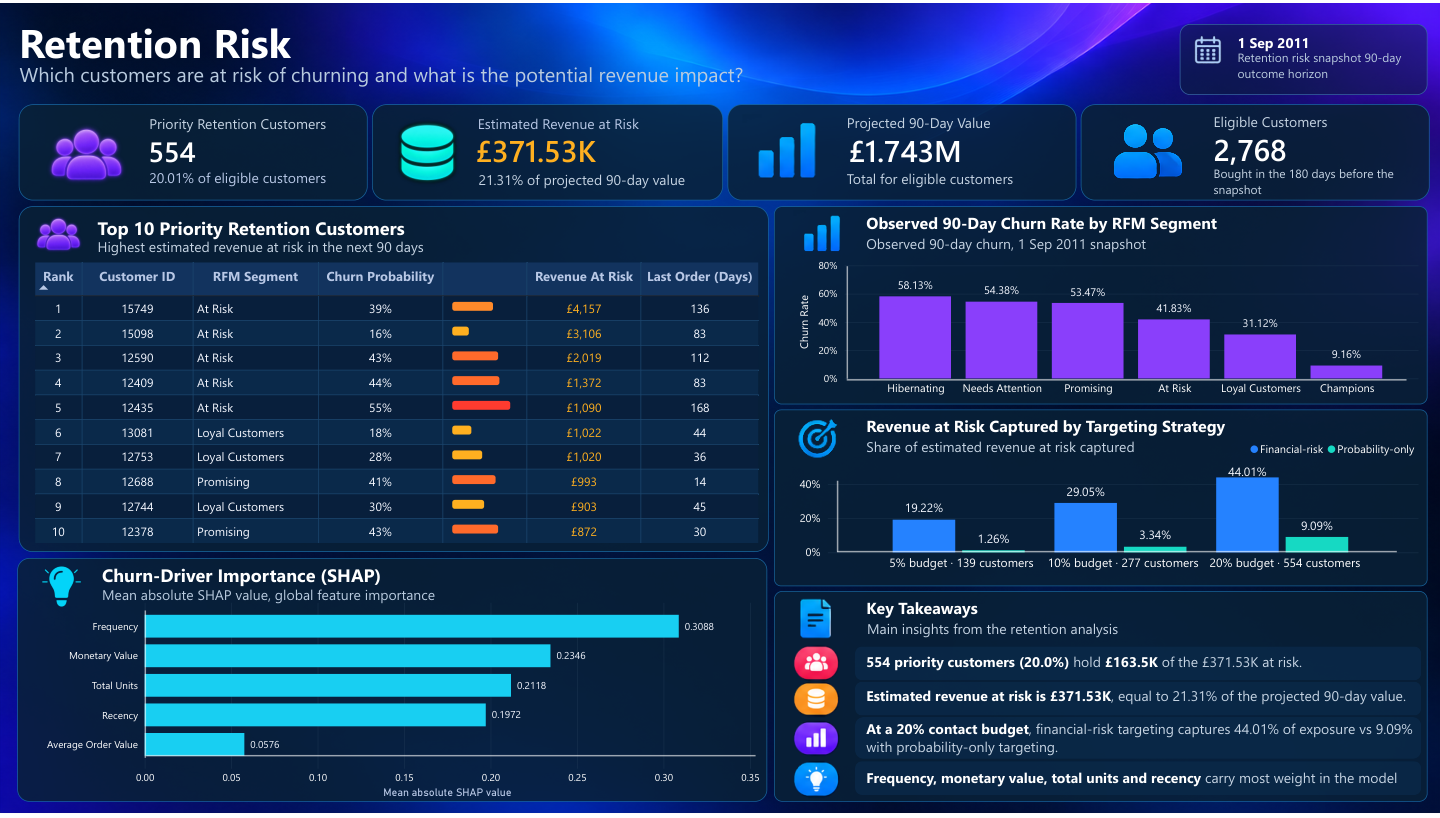

What the dashboard file says about the page in this screenshot:
{"tool":"powerbi","page":{"name":"Retention Risk","canvas":[1920,1080],"ordinal":1},"visuals":[{"type":"textbox","box":[25,14.3,628.6,76.8],"z":0},{"type":"shape","box":[496.4,133.9,468,128.3],"z":0,"group":"g1"},{"type":"shape","box":[969.6,133.9,465.2,128.3],"z":0,"group":"g2"},{"type":"shape","box":[1441.1,133.9,465.2,128.3],"z":0,"group":"g3"},{"type":"shape","box":[1032.1,269.6,871.4,264.3],"z":0,"group":"g4"},{"type":"shape","box":[1031.9,541.1,871.4,235.7],"z":0,"group":"g5"},{"type":"cardVisual","fields":{"Data":["Sum(retention_kpis.eligible_customers)"]},"box":[1602,152,187.5,80.4],"z":1000,"group":"g3"},{"type":"cardVisual","fields":{"Data":["Sum(retention_kpis.projected_90d_value)"]},"box":[1114.4,154,187.5,80.4],"z":1000,"group":"g2"},{"type":"cardVisual","fields":{"Data":["Sum(retention_kpis.estimated_revenue_at_risk)"]},"box":[618.8,158,195.7,73.8],"z":1000,"group":"g1"},{"type":"textbox","box":[1155.3,277,571.4,39.3],"z":1000,"group":"g4"},{"type":"textbox","box":[1155.4,548.3,571.4,39.3],"z":1000,"group":"g5"},{"type":"shape","box":[1032.1,783,871.4,281],"z":1000},{"type":"textbox","box":[1617.7,144,275,33.9],"z":2000,"group":"g3"},{"type":"textbox","box":[1128.7,146.2,275,33.9],"z":2000,"group":"g2"},{"type":"textbox","box":[637,146.5,275,33.9],"z":2000,"group":"g1"},{"type":"shape","box":[25,270,1000,461],"z":2000},{"type":"textbox","box":[1155.3,307,571.4,30.4],"z":2000,"group":"g4"},{"type":"textbox","box":[1155.4,578.3,571.4,30.4],"z":2000,"group":"g5"},{"type":"image","box":[977.4,134,121.4,112.5],"z":3000,"group":"g2"},{"type":"image","box":[499.2,134.7,141.1,130.4],"z":3000,"group":"g1"},{"type":"image","box":[1471.3,146,117.9,101.8],"z":3000,"group":"g3"},{"type":"image","box":[1037.5,268,105.4,69.6],"z":3000,"group":"g4"},{"type":"image","box":[1037.5,545,105.4,69.6],"z":3000,"group":"g5"},{"type":"textbox","box":[1155.1,790.1,571.4,37.5],"z":3000},{"type":"textbox","box":[25.8,74.8,982.7,46.4],"z":4000},{"type":"clusteredColumnChart","fields":{"Category":["retention_segment_summary.rfm_segment"],"Y":["Sum(retention_segment_summary.Churn Rate)"]},"box":[1050,325,857.1,219.6],"z":4000,"group":"g4"},{"type":"clusteredColumnChart","fields":{"Category":["contact_budget_comparison.Budget Label"],"Y":["Sum(contact_budget_comparison.Financial Exposure %)","Sum(contact_budget_comparison.Probability Exposure %)"]},"box":[1049.8,564.3,857.1,214.3],"z":4000,"group":"g5"},{"type":"textbox","box":[1156.3,819.5,571.4,36.3],"z":5000},{"type":"textbox","box":[130,282,516.6,35.3],"z":6000},{"type":"image","box":[1040,783.5,94.6,73.2],"z":7000},{"type":"textbox","box":[130,311,593.6,38.5],"z":8000},{"type":"shape","box":[1573.2,26.8,330.4,94.6],"z":10000},{"type":"tableEx","fields":{"Values":["retention_customer_priority.priority_rank","retention_customer_priority.customer_id","retention_customer_priority.rfm_segment","retention_customer_priority.calibrated_churn_probability","retention_customer_priority.Probability Bar","retention_customer_priority.revenue_at_risk","retention_customer_priority.recency_days"]},"box":[30,331,998.2,407.1],"z":11000},{"type":"textbox","box":[1650,39.3,224.6,41.7],"z":12000},{"type":"textbox","box":[1650,60.7,237.5,60.7],"z":13000},{"type":"image","box":[1546.4,21.4,128.6,78.6],"z":14000},{"type":"shape","box":[25,133.9,465.2,128.3],"z":15000},{"type":"group","id":"g1","title":"Group 1","box":[496.4,133.9,468,131.1],"z":16000},{"type":"group","id":"g2","title":"Group 1","box":[969.6,133.9,465.2,128.3],"z":17000},{"type":"cardVisual","fields":{"Data":["Sum(retention_kpis.priority_customers)"]},"box":[182,154.8,187.5,80.4],"z":18000},{"type":"group","id":"g3","title":"Group 1","box":[1441.1,133.9,465.2,128.3],"z":19000},{"type":"textbox","box":[198.6,147,275,33.9],"z":20000},{"type":"image","box":[46.4,133.9,139.3,128.6],"z":21000},{"type":"shape","box":[1140.1,857.3,755,45],"z":22000},{"type":"shape","box":[23.2,739.3,1000,325],"z":23000},{"type":"textbox","box":[135.7,744.6,450,32.1],"z":24000},{"type":"textbox","box":[135.7,775,491.1,30.4],"z":25000},{"type":"image","box":[30.4,730.4,105.4,92.9],"z":26000},{"type":"textbox","box":[198.6,219.2,299.2,38.7],"z":28000},{"type":"textbox","box":[637.5,221.4,323.2,37.5],"z":29000},{"type":"textbox","box":[1128.6,220,320.9,35.3],"z":30000},{"type":"textbox","box":[1617.9,215,301.8,60.7],"z":31000},{"type":"image","box":[12,266,132.1,78.6],"z":32000},{"type":"clusteredBarChart","fields":{"Category":["churn_driver_importance.feature"],"Y":["Sum(churn_driver_importance.mean_abs_shap)"]},"box":[37.5,776.8,991.1,298.2],"z":33000},{"type":"shape","box":[83.9,808.9,219.6,196.4],"z":34000},{"type":"shape","box":[194.6,941.1,812.5,123.2],"z":35000},{"type":"shape","box":[1140.1,951,755,55.8],"z":35500},{"type":"group","id":"g4","title":"Group 2","box":[1032.1,268,875,276.6],"z":36000},{"type":"group","id":"g5","title":"Group 2","box":[1031.9,541.1,875,237.5],"z":37000},{"type":"shape","box":[1019.6,350,219.6,150],"z":38000},{"type":"shape","box":[1128.6,464.3,746.4,75],"z":39000},{"type":"shape","box":[1007.1,635.7,219.6,94.6],"z":40000},{"type":"shape","box":[1116.1,692.9,746.4,75],"z":41000},{"type":"shape","box":[1140.1,904.2,755,45],"z":42000},{"type":"textbox","box":[1155.4,864.3,733.9,37.5],"z":43000},{"type":"textbox","box":[1155.4,910,733.9,33.9],"z":44000},{"type":"image","box":[1035.7,844.6,105.4,69.6],"z":45000},{"type":"image","box":[1035.7,892.9,105.4,69.6],"z":46000},{"type":"image","box":[1035.7,945,105.4,69.6],"z":47000},{"type":"image","box":[1035.7,999,105.4,69.6],"z":48000},{"type":"shape","box":[1140.1,1010.4,755,45],"z":50000},{"type":"textbox","box":[1154.5,1019.4,764.3,33.9],"z":51000},{"type":"textbox","box":[1154.5,952.8,760,58.9],"z":51500}]}

Visuals, with their boxes in screenshot pixels (x1, y1, x2, y2), scaled from the page's 1920x1080 canvas onto the 1440x818 screenshot:
textbox: <bbox>19, 11, 490, 69</bbox>
shape: <bbox>372, 101, 723, 199</bbox>
shape: <bbox>727, 101, 1076, 199</bbox>
shape: <bbox>1081, 101, 1430, 199</bbox>
shape: <bbox>774, 204, 1428, 404</bbox>
shape: <bbox>774, 410, 1427, 588</bbox>
cardVisual - Sum(retention_kpis.eligible_customers): <bbox>1202, 115, 1342, 176</bbox>
cardVisual - Sum(retention_kpis.projected_90d_value): <bbox>836, 117, 976, 178</bbox>
cardVisual - Sum(retention_kpis.estimated_revenue_at_risk): <bbox>464, 120, 611, 176</bbox>
textbox: <bbox>866, 210, 1295, 240</bbox>
textbox: <bbox>867, 415, 1295, 445</bbox>
shape: <bbox>774, 593, 1428, 806</bbox>
textbox: <bbox>1213, 109, 1420, 135</bbox>
textbox: <bbox>847, 111, 1053, 136</bbox>
textbox: <bbox>478, 111, 684, 137</bbox>
shape: <bbox>19, 204, 769, 554</bbox>
textbox: <bbox>866, 233, 1295, 256</bbox>
textbox: <bbox>867, 438, 1295, 461</bbox>
image: <bbox>733, 101, 824, 187</bbox>
image: <bbox>374, 102, 480, 201</bbox>
image: <bbox>1103, 111, 1192, 188</bbox>
image: <bbox>778, 203, 857, 256</bbox>
image: <bbox>778, 413, 857, 466</bbox>
textbox: <bbox>866, 598, 1295, 627</bbox>
textbox: <bbox>19, 57, 756, 92</bbox>
clusteredColumnChart - retention_segment_summary.rfm_segment x Sum(retention_segment_summary.Churn Rate): <bbox>788, 246, 1430, 412</bbox>
clusteredColumnChart - contact_budget_comparison.Budget Label x Sum(contact_budget_comparison.Financial Exposure %): <bbox>787, 427, 1430, 590</bbox>
textbox: <bbox>867, 621, 1296, 648</bbox>
textbox: <bbox>98, 214, 485, 240</bbox>
image: <bbox>780, 593, 851, 649</bbox>
textbox: <bbox>98, 236, 543, 265</bbox>
shape: <bbox>1180, 20, 1428, 92</bbox>
tableEx - retention_customer_priority.priority_rank x retention_customer_priority.customer_id: <bbox>22, 251, 771, 559</bbox>
textbox: <bbox>1238, 30, 1406, 61</bbox>
textbox: <bbox>1238, 46, 1416, 92</bbox>
image: <bbox>1160, 16, 1256, 76</bbox>
shape: <bbox>19, 101, 368, 199</bbox>
"Group 1" group: <bbox>372, 101, 723, 201</bbox>
"Group 1" group: <bbox>727, 101, 1076, 199</bbox>
cardVisual - Sum(retention_kpis.priority_customers): <bbox>136, 117, 277, 178</bbox>
"Group 1" group: <bbox>1081, 101, 1430, 199</bbox>
textbox: <bbox>149, 111, 355, 137</bbox>
image: <bbox>35, 101, 139, 199</bbox>
shape: <bbox>855, 649, 1421, 683</bbox>
shape: <bbox>17, 560, 767, 806</bbox>
textbox: <bbox>102, 564, 439, 588</bbox>
textbox: <bbox>102, 587, 470, 610</bbox>
image: <bbox>23, 553, 102, 624</bbox>
textbox: <bbox>149, 166, 373, 195</bbox>
textbox: <bbox>478, 168, 721, 196</bbox>
textbox: <bbox>846, 167, 1087, 193</bbox>
textbox: <bbox>1213, 163, 1439, 209</bbox>
image: <bbox>9, 201, 108, 261</bbox>
clusteredBarChart - churn_driver_importance.feature x Sum(churn_driver_importance.mean_abs_shap): <bbox>28, 588, 771, 814</bbox>
shape: <bbox>63, 613, 228, 761</bbox>
shape: <bbox>146, 713, 755, 806</bbox>
shape: <bbox>855, 720, 1421, 763</bbox>
"Group 2" group: <bbox>774, 203, 1430, 412</bbox>
"Group 2" group: <bbox>774, 410, 1430, 590</bbox>
shape: <bbox>765, 265, 929, 379</bbox>
shape: <bbox>846, 352, 1406, 408</bbox>
shape: <bbox>755, 481, 920, 553</bbox>
shape: <bbox>837, 525, 1397, 582</bbox>
shape: <bbox>855, 685, 1421, 719</bbox>
textbox: <bbox>867, 655, 1417, 683</bbox>
textbox: <bbox>867, 689, 1417, 715</bbox>
image: <bbox>777, 640, 856, 692</bbox>
image: <bbox>777, 676, 856, 729</bbox>
image: <bbox>777, 716, 856, 768</bbox>
image: <bbox>777, 757, 856, 809</bbox>
shape: <bbox>855, 765, 1421, 799</bbox>
textbox: <bbox>866, 772, 1439, 798</bbox>
textbox: <bbox>866, 722, 1436, 766</bbox>
